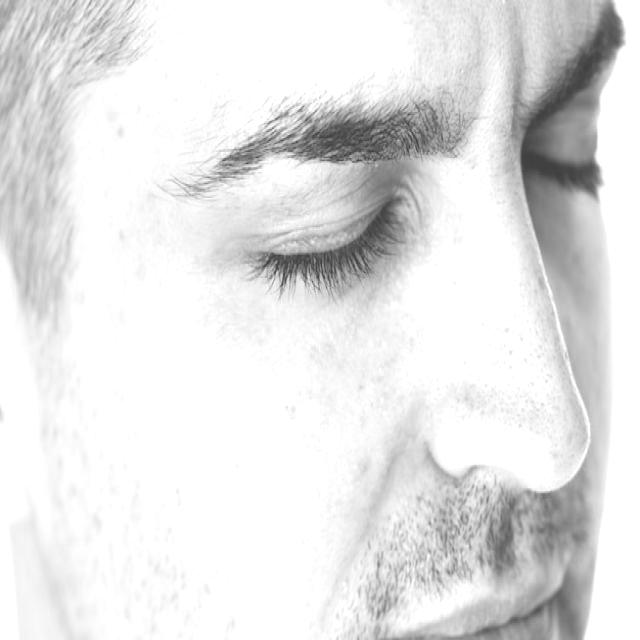real: (0, 0, 636, 640), (195, 56, 627, 322)
